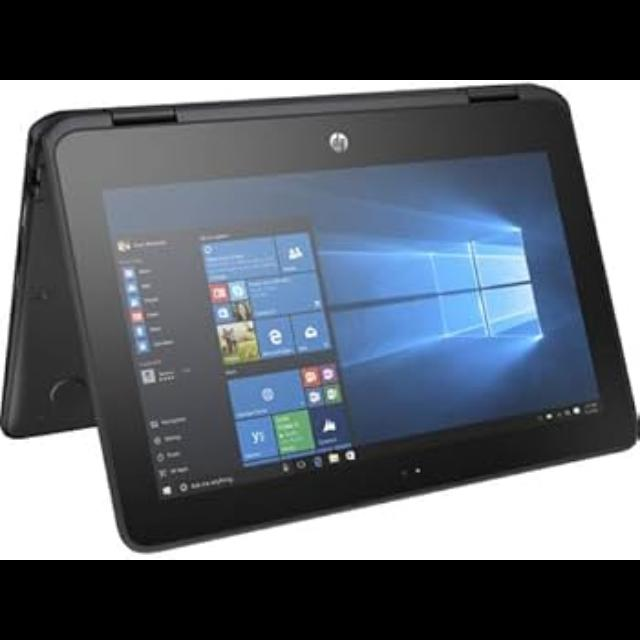laptop: (7, 80, 620, 552)
